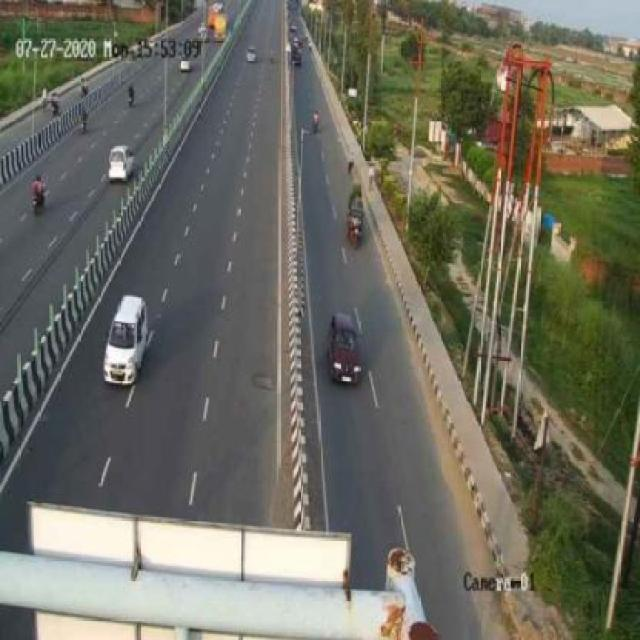car: (103, 291, 154, 391), (328, 309, 363, 386), (106, 140, 142, 183)
